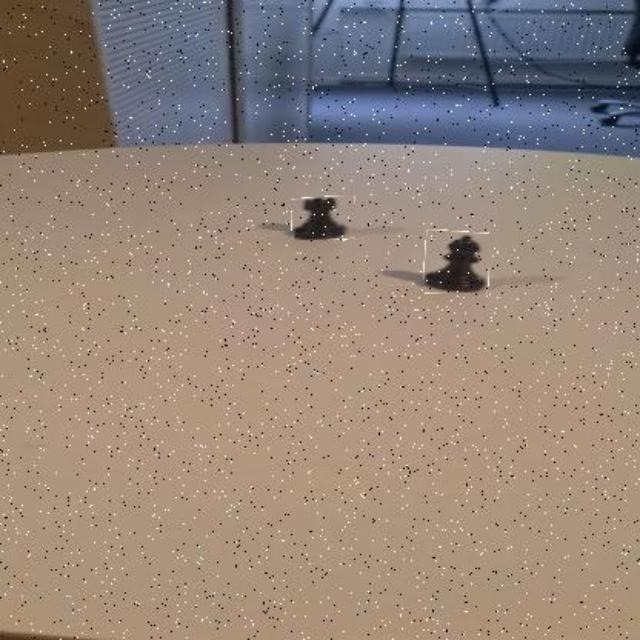black-bishop: (424, 230, 490, 294)
black-rook: (292, 195, 358, 241)
